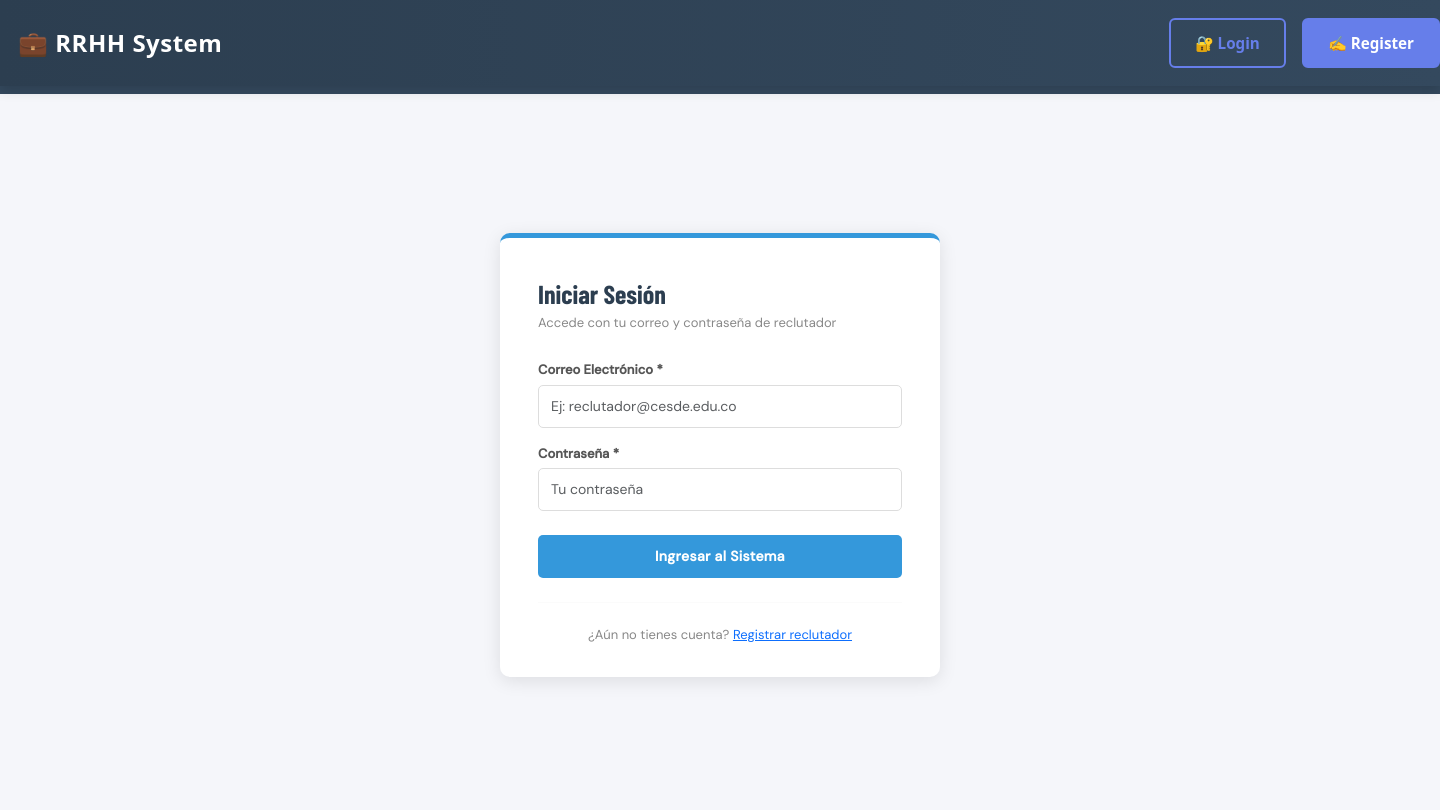
Scenario: <LoginPage /> › muestra error del servidor cuando el login falla
The width and height of the screenshot is (1440, 810).
Type "juan@test.com" into the field labelled "Correo Electrónico *" at coordinates (720, 406), box [538, 385, 902, 428]
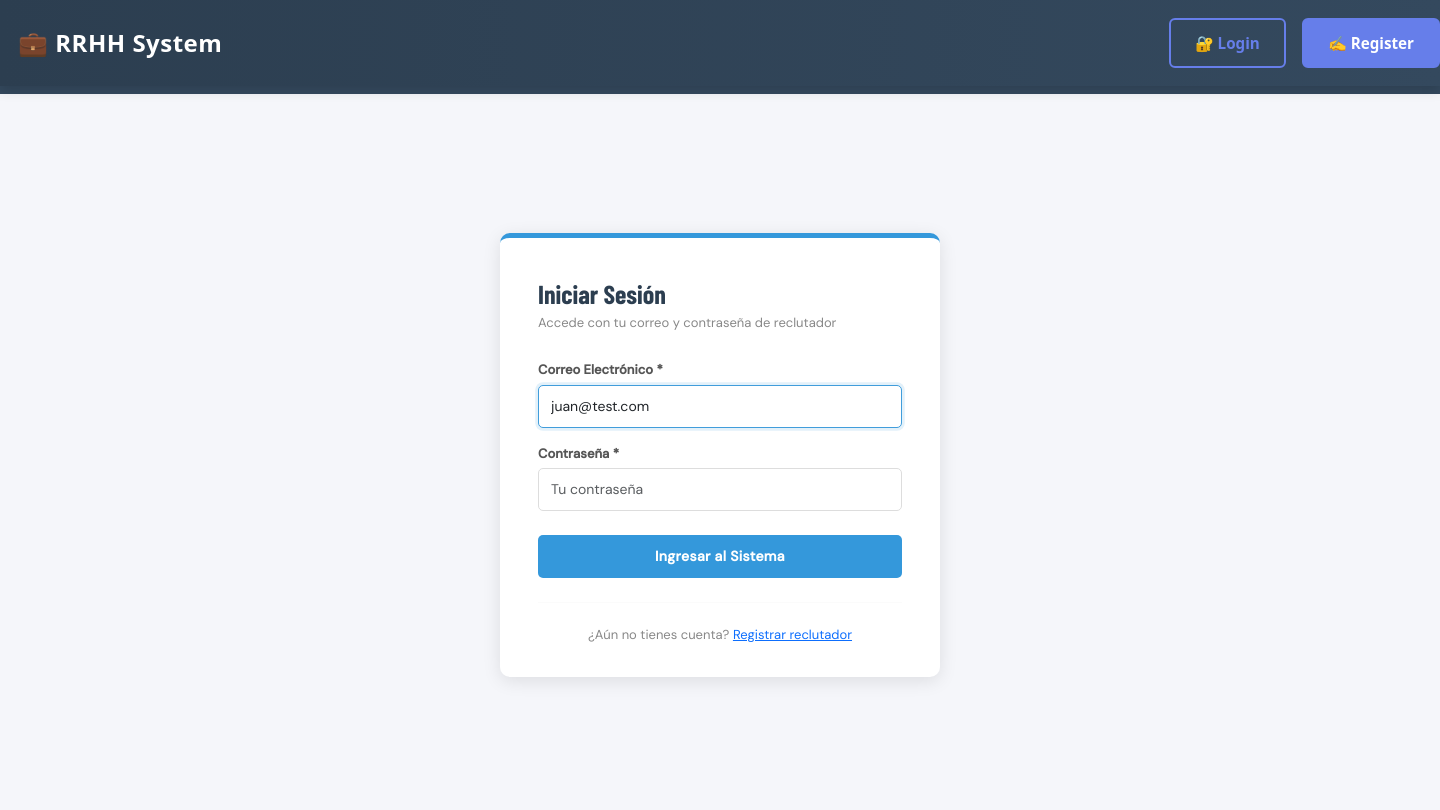
Type "password123" into the password field labelled "Contraseña *" at coordinates (720, 490), box [538, 468, 902, 511]
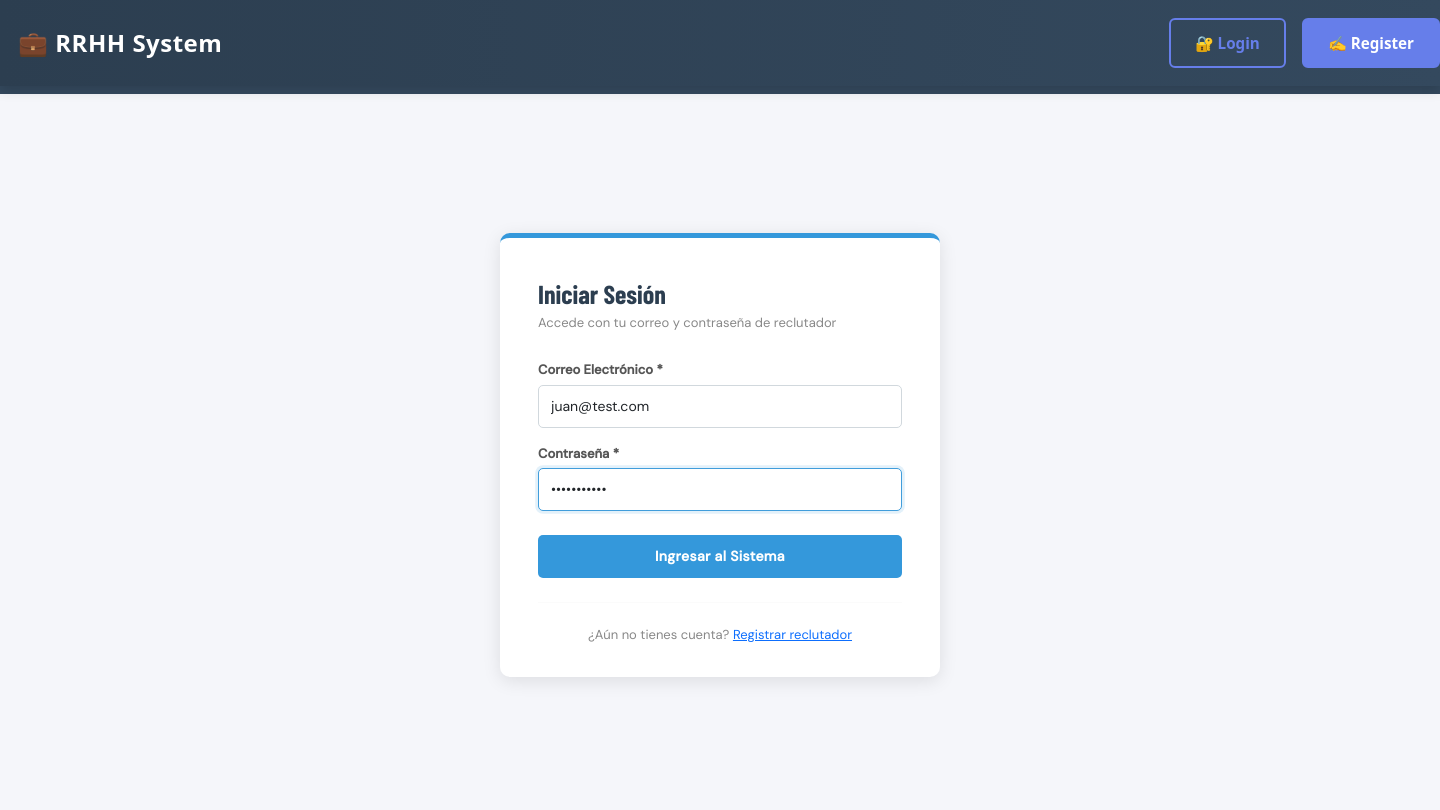
Click the button "Ingresar al Sistema" at coordinates (720, 557), box [538, 535, 902, 578]
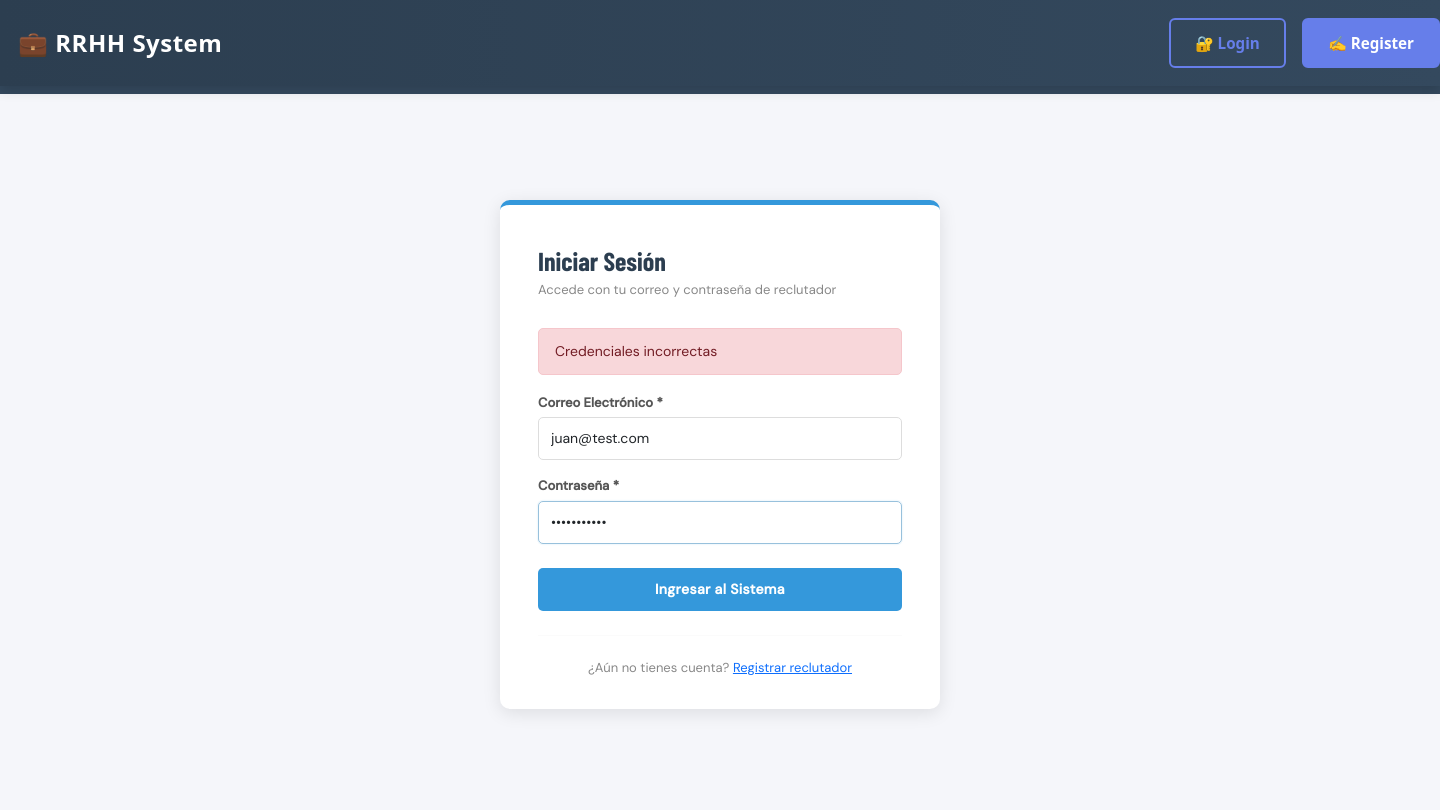
expect the text "Credenciales incorrectas" is shown: met, box [538, 328, 902, 375]
